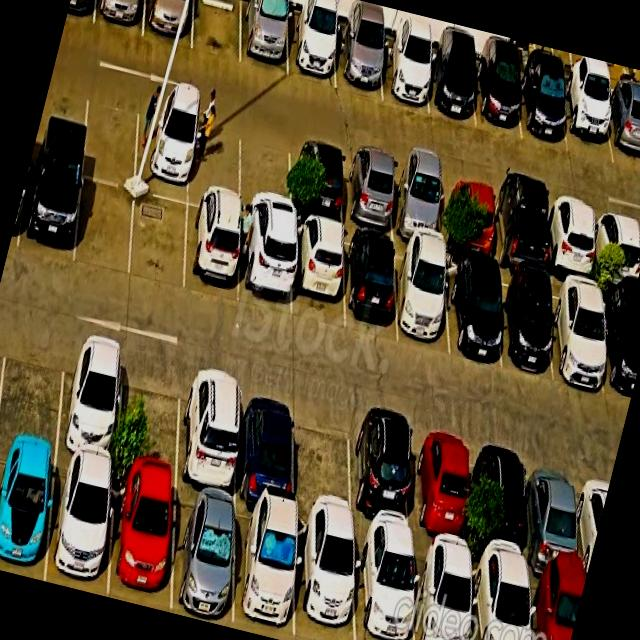car: (45, 455, 112, 594), (56, 332, 123, 467), (170, 486, 234, 625), (109, 471, 173, 609), (232, 502, 294, 640), (177, 364, 240, 498), (351, 407, 412, 542), (236, 378, 295, 510), (0, 443, 56, 581), (294, 516, 354, 640), (412, 420, 466, 556), (528, 447, 582, 580), (17, 159, 82, 264), (478, 435, 528, 568), (548, 277, 606, 391), (354, 533, 414, 640), (444, 258, 501, 368), (493, 269, 552, 375), (394, 243, 449, 355), (134, 99, 193, 203), (344, 231, 397, 339), (413, 544, 472, 640), (292, 219, 343, 328), (184, 206, 239, 304), (238, 220, 290, 317), (491, 184, 546, 275), (471, 557, 530, 640), (600, 288, 640, 403), (291, 137, 343, 225), (441, 173, 493, 260), (343, 149, 394, 236), (390, 160, 442, 245), (560, 80, 613, 163), (546, 196, 595, 281), (519, 66, 567, 151), (528, 569, 585, 640), (593, 206, 640, 292), (287, 9, 336, 88), (474, 56, 521, 138), (426, 48, 475, 126), (380, 36, 428, 112), (240, 0, 287, 76), (335, 25, 381, 98), (602, 89, 640, 170), (142, 0, 193, 48), (93, 0, 144, 36)
free: (116, 348, 182, 484), (0, 320, 66, 451), (294, 394, 352, 528), (74, 177, 135, 276), (81, 85, 139, 187), (130, 192, 187, 293), (239, 124, 290, 230), (187, 113, 239, 216), (191, 0, 241, 63)
